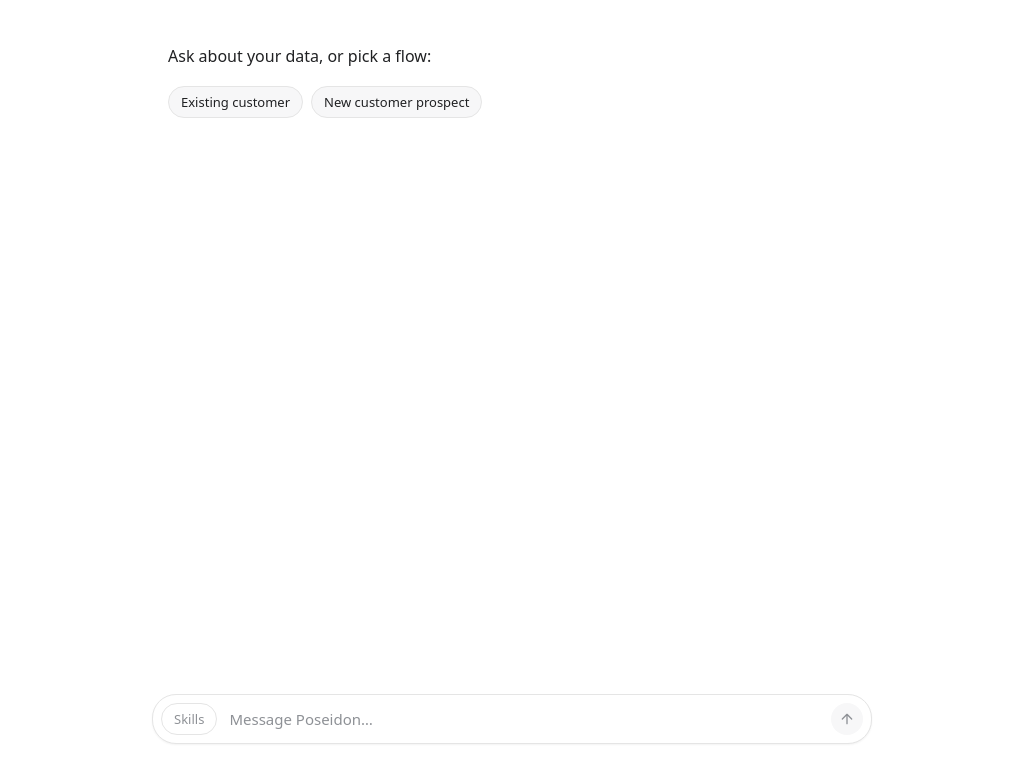
Test case: thumbs render only on turn-backed assistant messages, never on the opener
(page scrolled)
Check: the text "Ask about your data, or pick a flow:" is shown, box [168,45,431,67]
Type "hello" into the field with placeholder "Message Poseidon…". click: (524,719)
box: [225,695,823,743]
Then press Enter
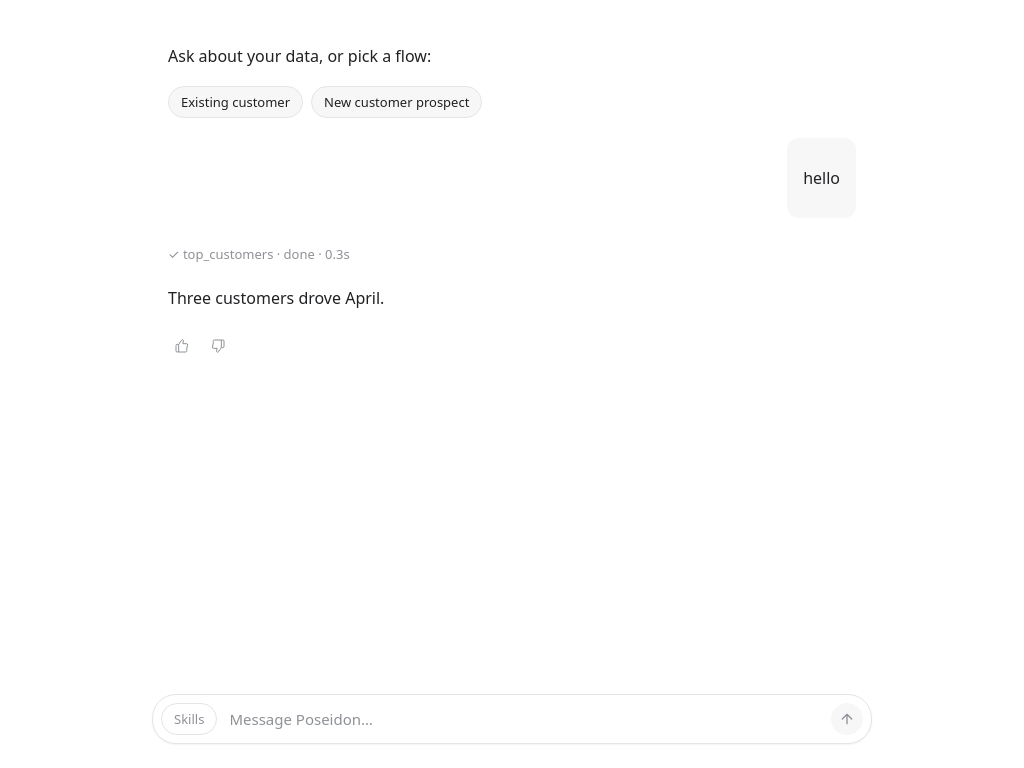
Check: the text "Three customers drove April." is shown, box [168,286,384,312]
Check: the number of buttons named "Good response" is 1, box [168,332,196,360]
